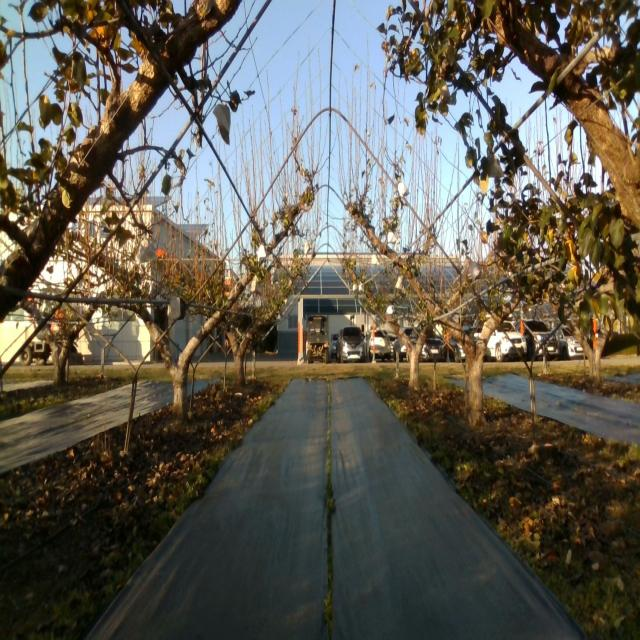pearbags: (212, 104, 232, 144), (137, 236, 157, 262), (488, 154, 504, 180), (470, 261, 482, 282)
